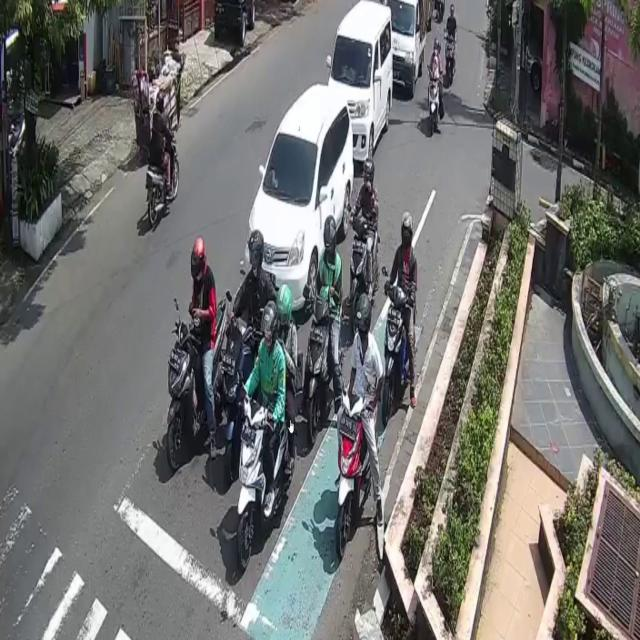bus: (163, 297, 234, 474), (237, 396, 290, 568), (337, 387, 372, 555), (305, 298, 333, 447), (383, 290, 412, 429), (146, 128, 180, 229), (352, 213, 377, 304), (428, 70, 439, 136)
motorcycle: (243, 81, 354, 319), (329, 0, 394, 162), (388, 0, 427, 94)
